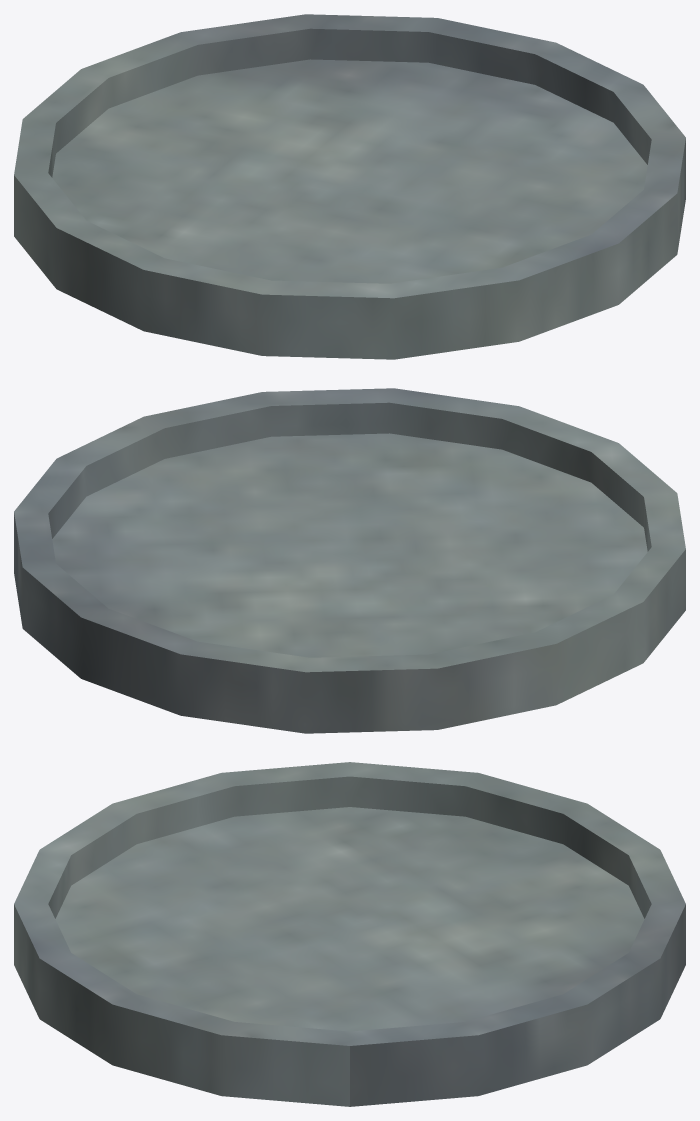
Rendered from coin.fbx.
The picture shows the model from 3 angles, top to bottom: view 1: azimuth 30°, elevation 25°; view 2: azimuth 150°, elevation 25°; view 3: azimuth 270°, elevation 25°; orthographic projection.
Parts seen in each view (by area): view 1: coin; view 2: coin; view 3: coin.
Boxes of the visible parts, left/top/right/bottom form: coin: left=14, top=14, right=685, bottom=359; coin: left=14, top=388, right=685, bottom=733; coin: left=14, top=762, right=685, bottom=1106.
Bounding box in the file's own units: 8 × 0.8 × 8.
